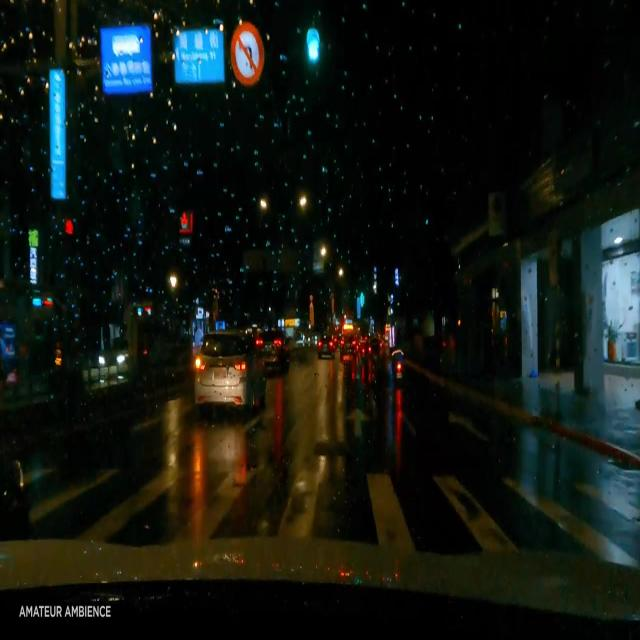Car: (192, 332, 265, 415), (257, 331, 288, 369), (315, 330, 334, 362)
